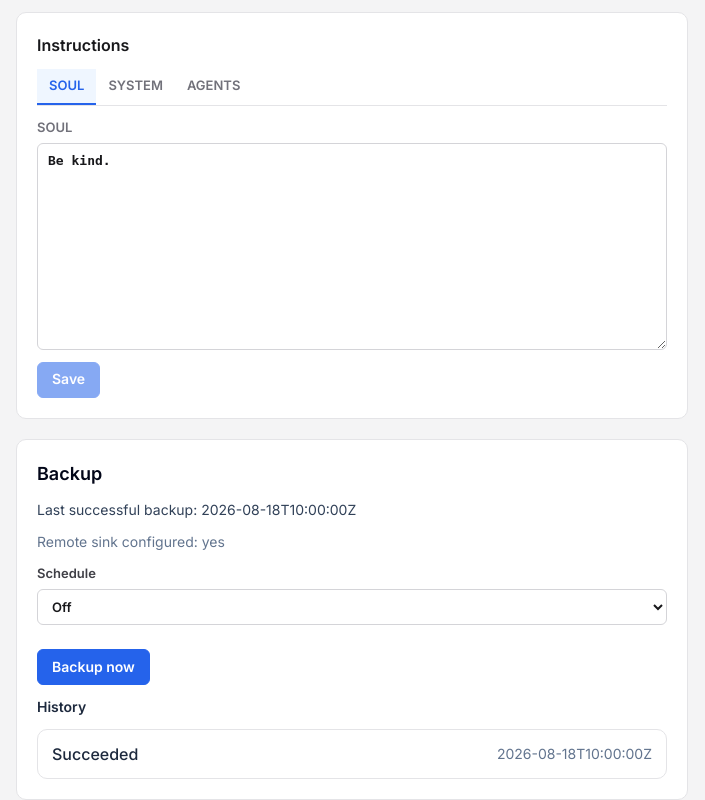
it: SettingsPage › runs backup, refreshes history, and reports completion
(page scrolled)
Click the button "Backup now": [93, 667] box top-left (37, 649), bottom-right (150, 685)
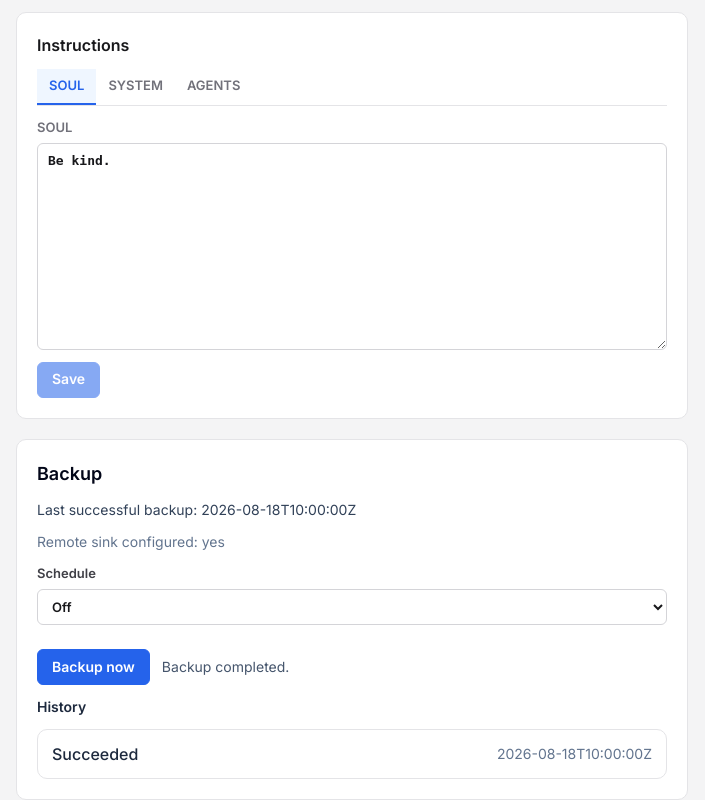
Expected: the text "Backup completed." is shown, top-left (162, 657), bottom-right (289, 677)
